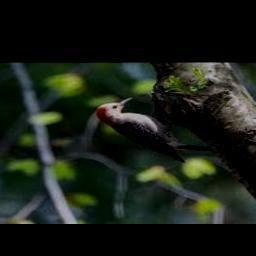Woodpecker: (97, 96, 214, 162)
